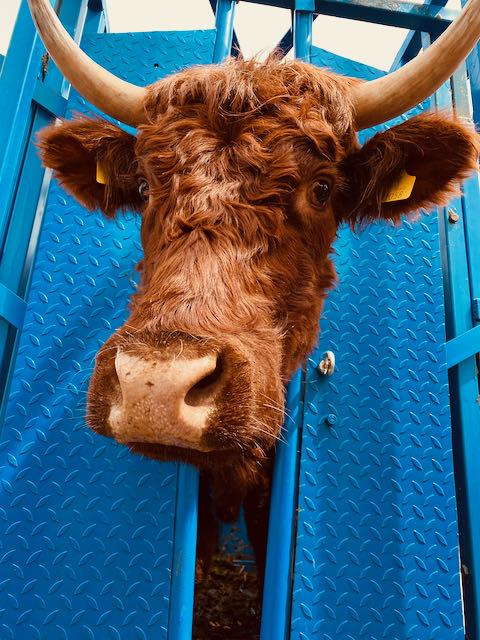muzzles: (76, 328, 260, 470)
